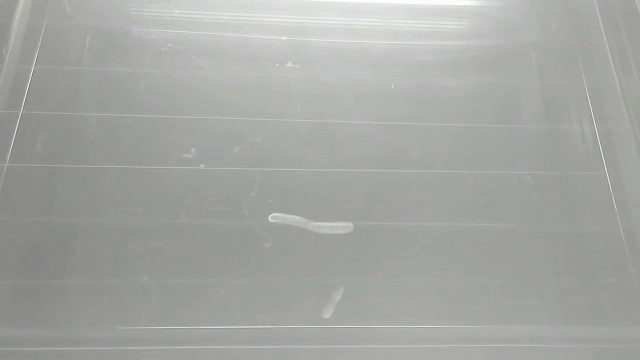alpha: (264, 208, 357, 238), (319, 283, 348, 321)
